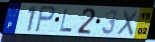1: (26, 5, 38, 33)
2: (76, 7, 97, 36)
3: (101, 9, 117, 36)
L: (58, 8, 74, 33)
P: (34, 5, 57, 34)
X: (116, 10, 139, 37)
